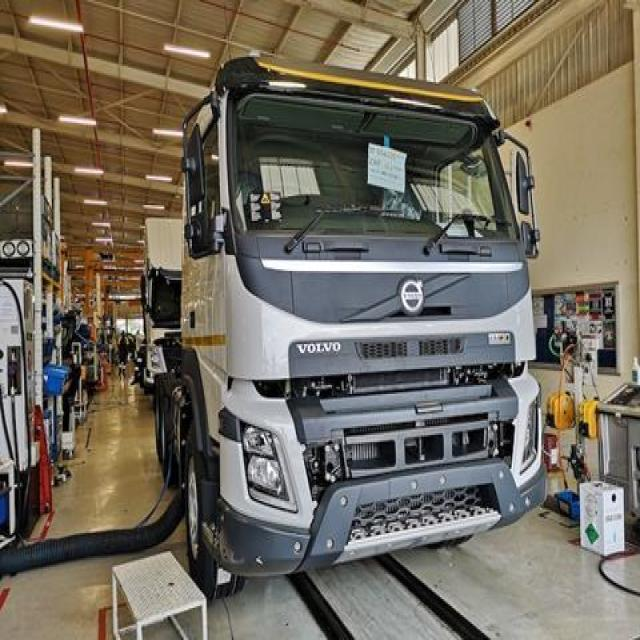Heavy Duty Truck: (156, 57, 553, 599)
